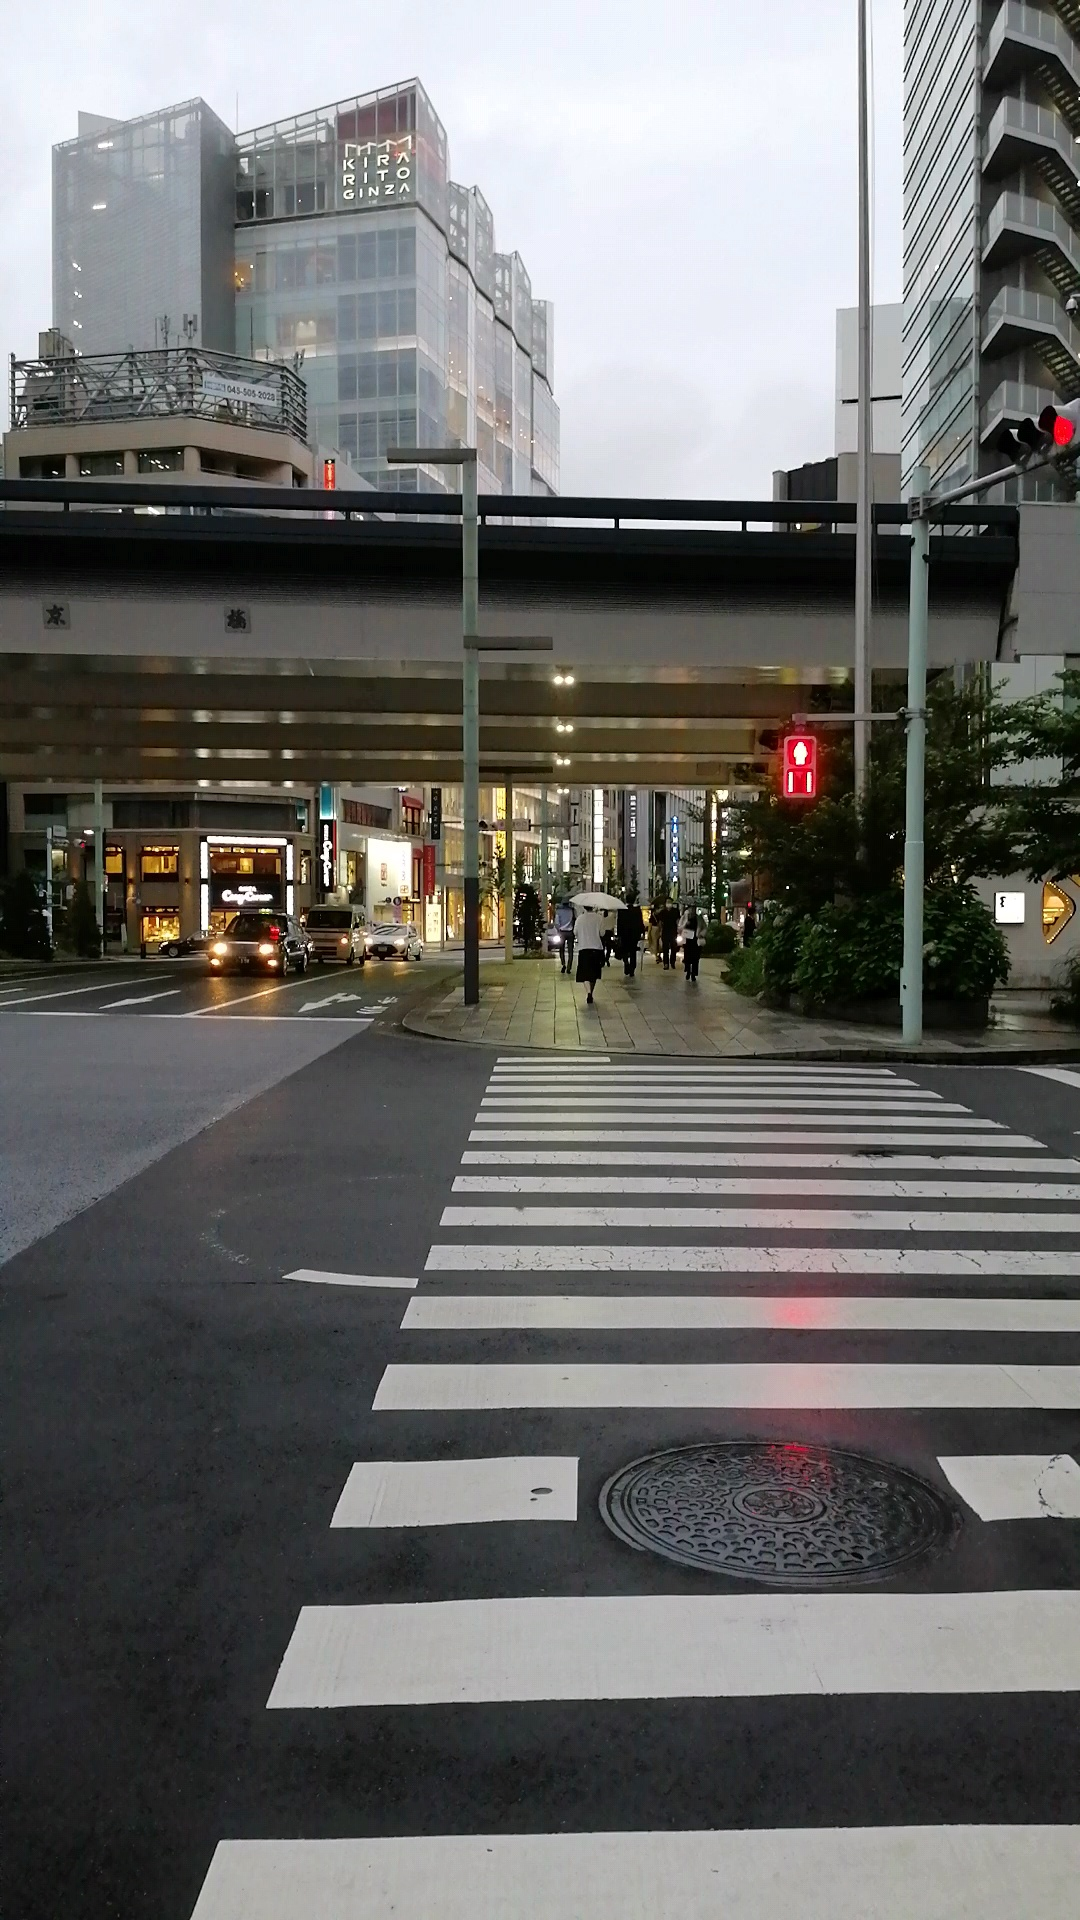red: (782, 735, 818, 800)
